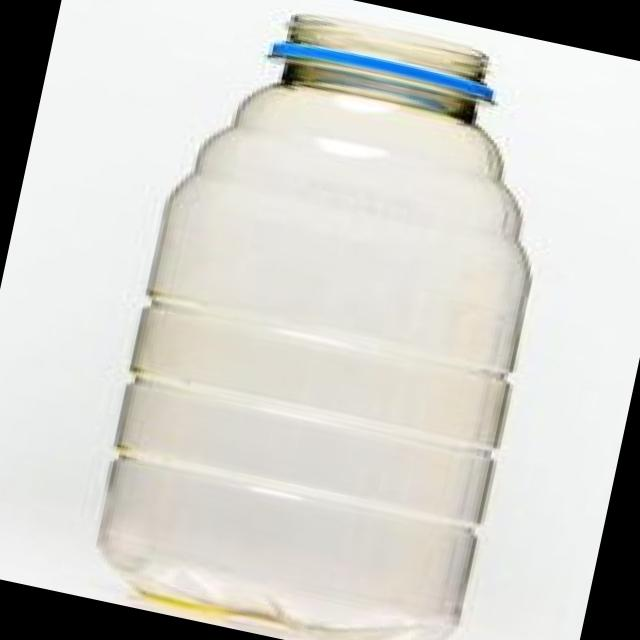general: (78, 0, 580, 640)
